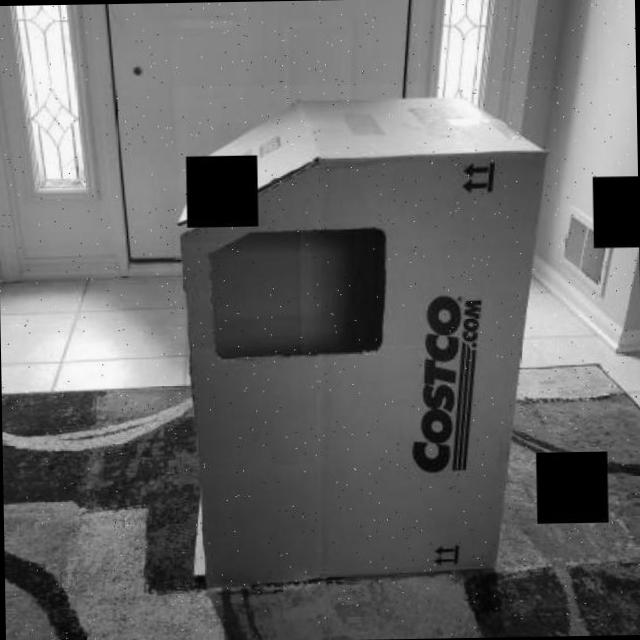box: (172, 80, 563, 621)
